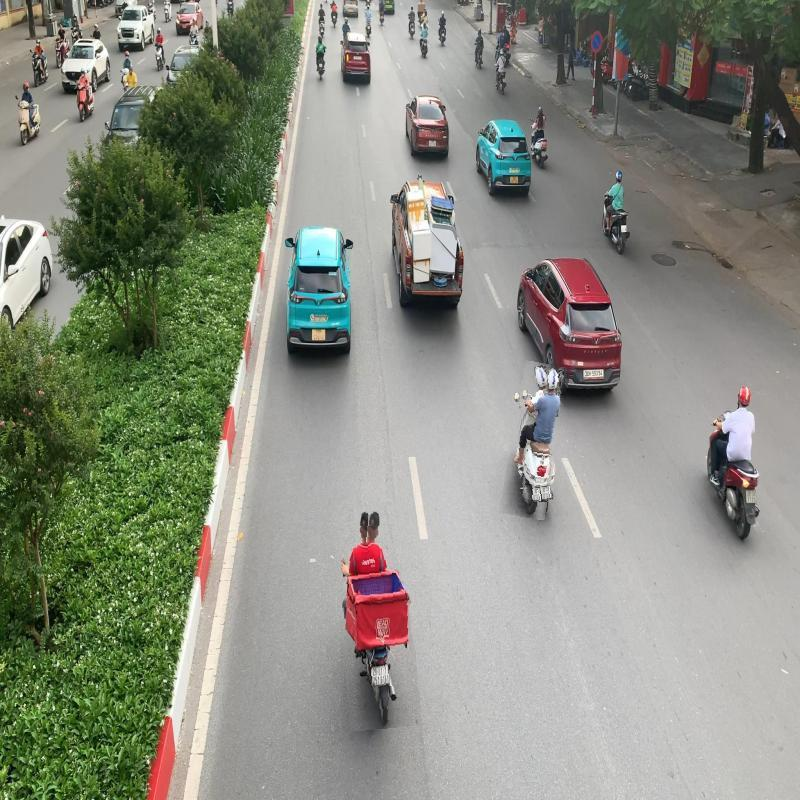helmet: (536, 366, 548, 390)
licenseplate: (370, 666, 384, 686), (541, 486, 553, 503)
motorcyclist: (336, 504, 418, 730), (506, 362, 564, 520)
nohelmet: (367, 508, 381, 543)
